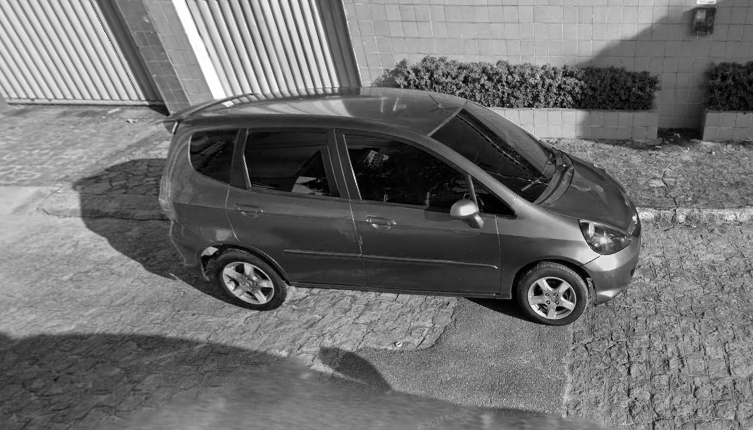car: (155, 83, 645, 327)
